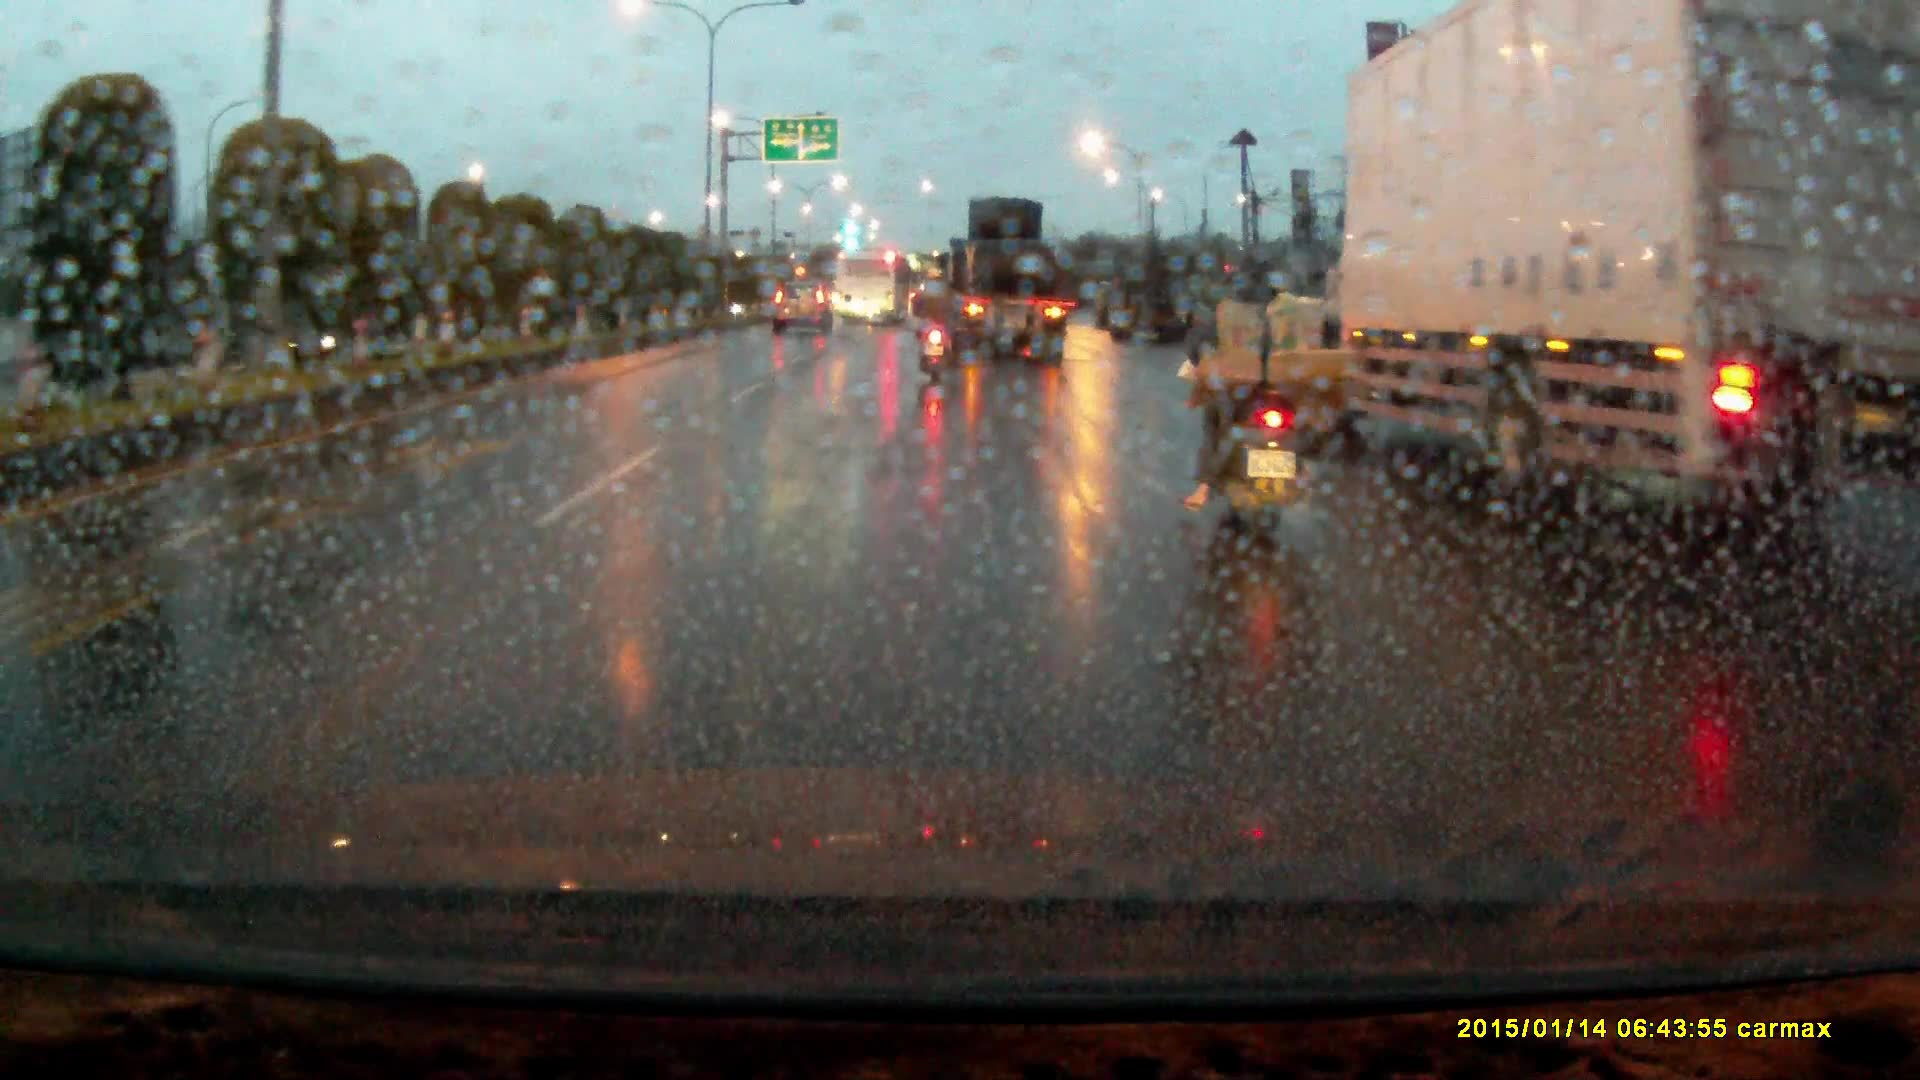rider: (1179, 253, 1367, 573), (912, 286, 955, 391)
vehicle: (1327, 1, 1910, 530), (929, 199, 1067, 368), (1105, 262, 1187, 352), (833, 253, 908, 331), (774, 283, 834, 342)
